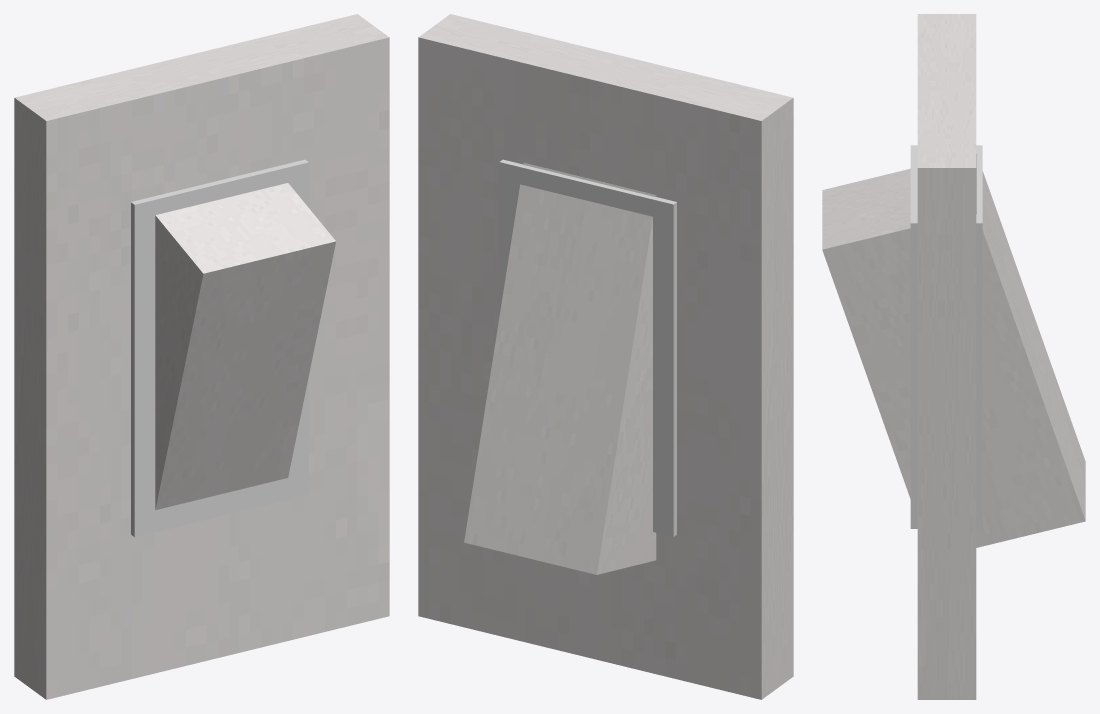
Rendered from LightSwitch.glb.
3 renders of one model, left to right at view 1: azimuth 30°, elevation 25°; view 2: azimuth 150°, elevation 25°; view 3: azimuth 270°, elevation 25°, orthographic. The views are drawn at different scales.
Visible parts, largest first — view 1: Base, Switch, Metal; view 2: Base, Switch, Metal; view 3: Base, Switch, Metal.
Boxes of the visible parts, x1=… form: Base: x1=14, y1=14, x2=389, y2=699; Switch: x1=155, y1=183, x2=335, y2=510; Metal: x1=131, y1=159, x2=308, y2=537; Base: x1=418, y1=14, x2=793, y2=699; Switch: x1=464, y1=163, x2=656, y2=574; Metal: x1=499, y1=159, x2=676, y2=536; Base: x1=917, y1=14, x2=976, y2=699; Switch: x1=822, y1=153, x2=1085, y2=547; Metal: x1=910, y1=145, x2=982, y2=528.
Size of the model in its own units: 0.1241 by 0.2 by 0.0898.
2 materials, 1 textured.
